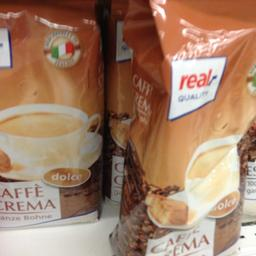coffee: (108, 0, 254, 255), (0, 0, 104, 230)
